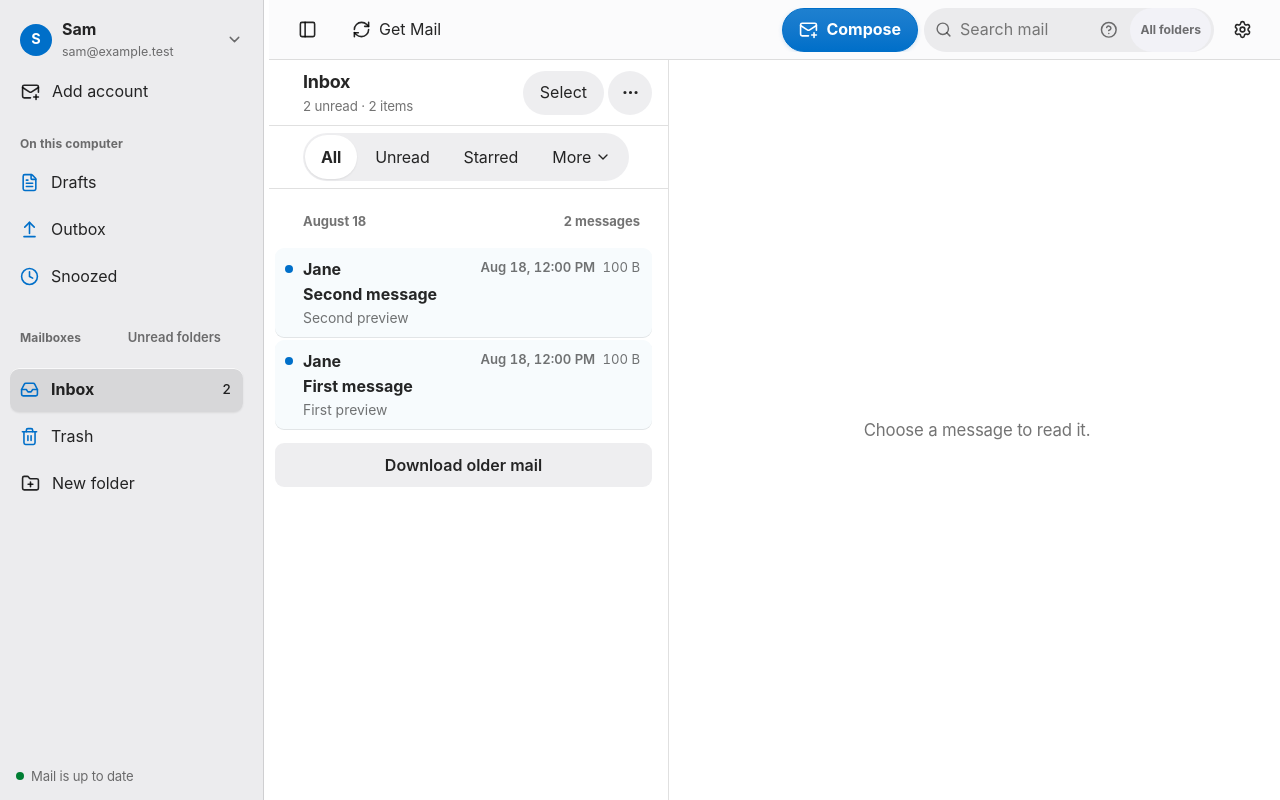
mail shell › blocks a sender by filing later mail to Junk
What coordinates should you click on to do the following:
click the option "Jane Aug 18, 12:00 PM 100 B First message First preview"
I would click on:
 (322, 361)
Its box is [275, 340, 652, 430].
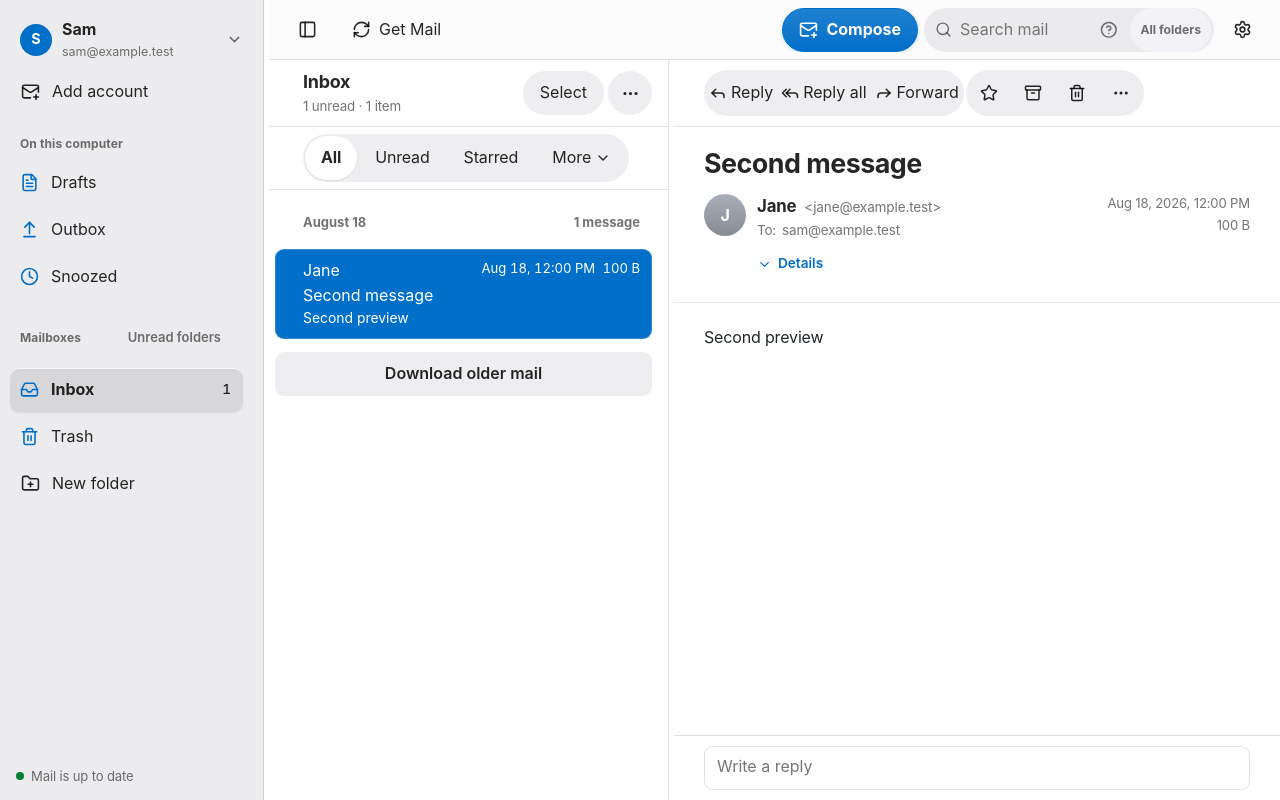
Check: the heading named "First message" is shown, box [704, 147, 922, 179]
